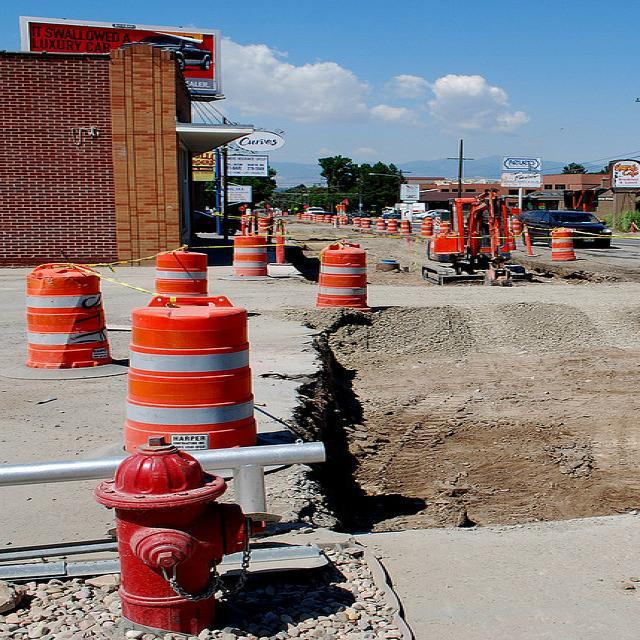fire_hydrant: (91, 434, 267, 637)
